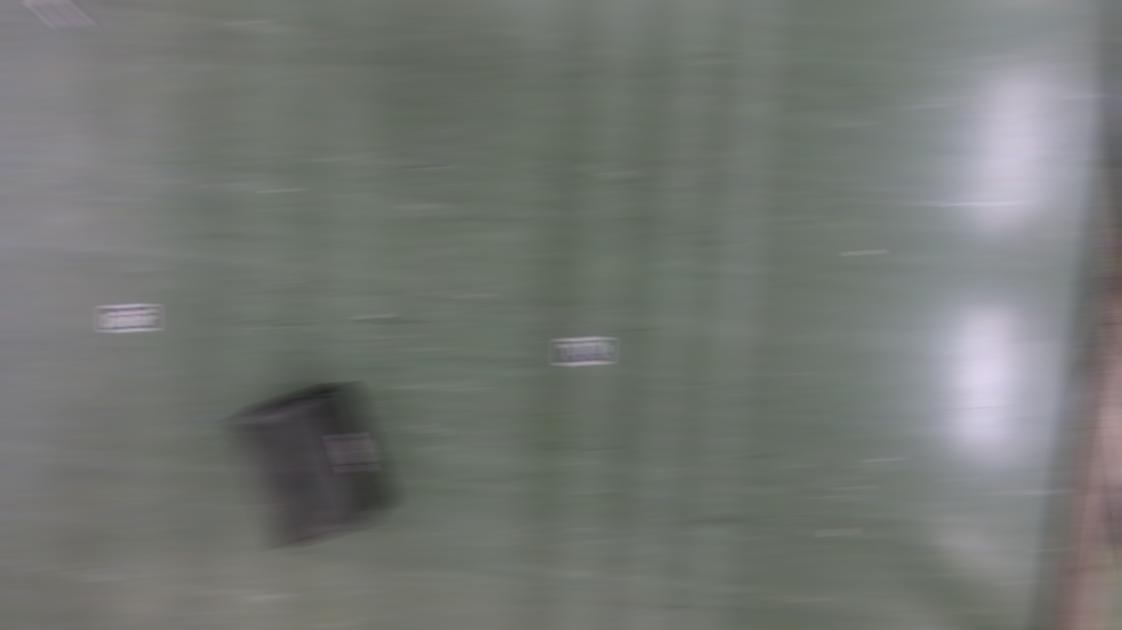probes: (30, 0, 88, 34)
rako: (226, 380, 392, 550)
